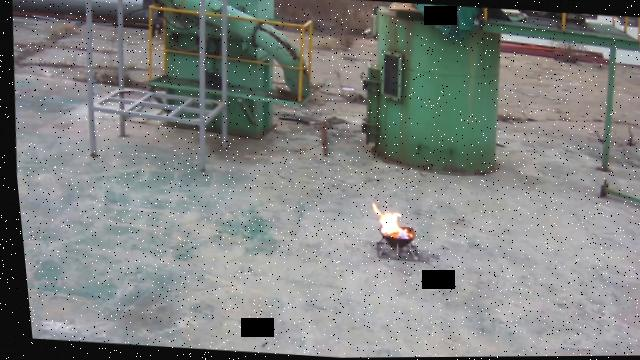fire: (364, 201, 409, 239)
